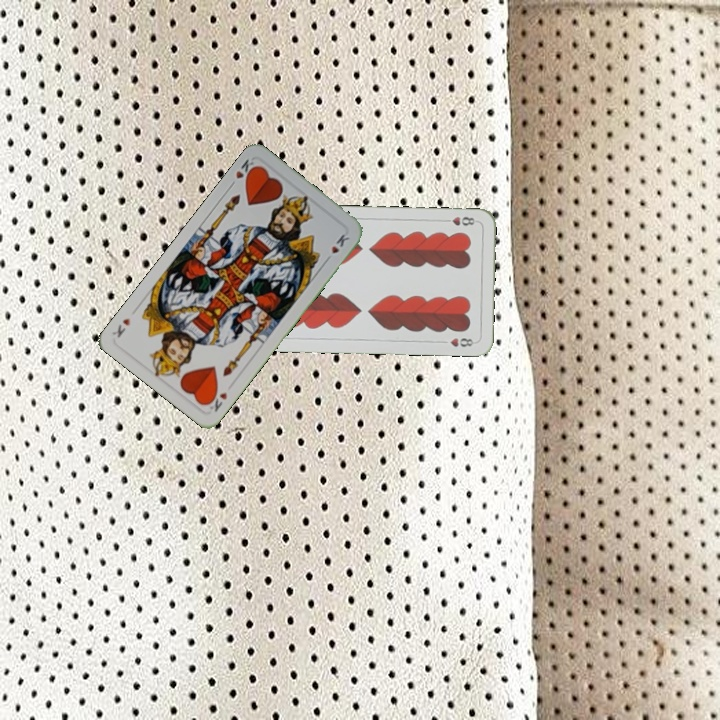H8: (439, 212, 480, 228)
HK: (225, 155, 260, 190), (202, 386, 230, 415)
